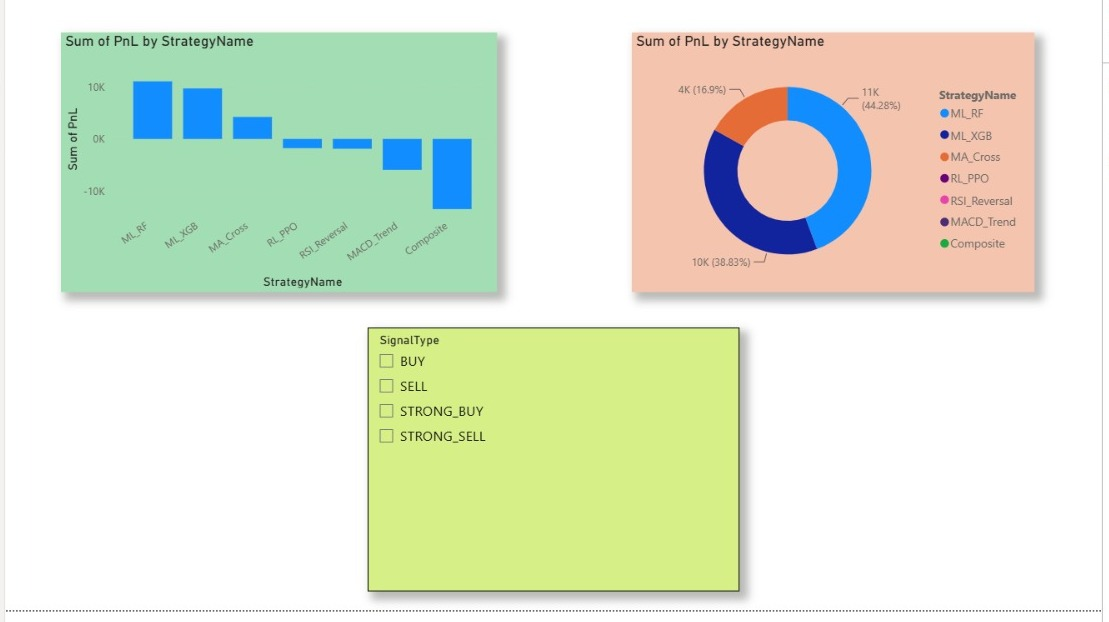

Layout of this report page (visuals, bound fields, positions):
{"tool":"powerbi","page":{"name":"Strategy Performance","canvas":[1280,720],"ordinal":3},"visuals":[{"type":"clusteredColumnChart","title":"Net PnL by Strategy (USD)","fields":{"Category":["trade_log.StrategyName"],"Y":["trade_log.Total Net PnL USD"]},"box":[23.4,45.9,576,326.1],"z":0},{"type":"donutChart","title":"Trade Distribution by Strategy","fields":{"Category":["trade_log.StrategyName"],"Y":["CountNonNull(trade_log.TradeID)"]},"box":[640.5,45.9,621,326.1],"z":1000},{"type":"slicer","fields":{"Values":["trade_log.SignalType"]},"box":[319.3,389.6,579,308.5],"z":2000}]}

Visuals, with their boxes in screenshot pixels (x1, y1, x2, y2), scaled from the page's 1280x720 canvas onto the 1109x622 screenshot:
"Net PnL by Strategy (USD)" clusteredColumnChart: [left=20, top=40, right=519, bottom=321]
"Trade Distribution by Strategy" donutChart: [left=555, top=40, right=1093, bottom=321]
slicer - trade_log.SignalType: [left=277, top=337, right=778, bottom=603]
